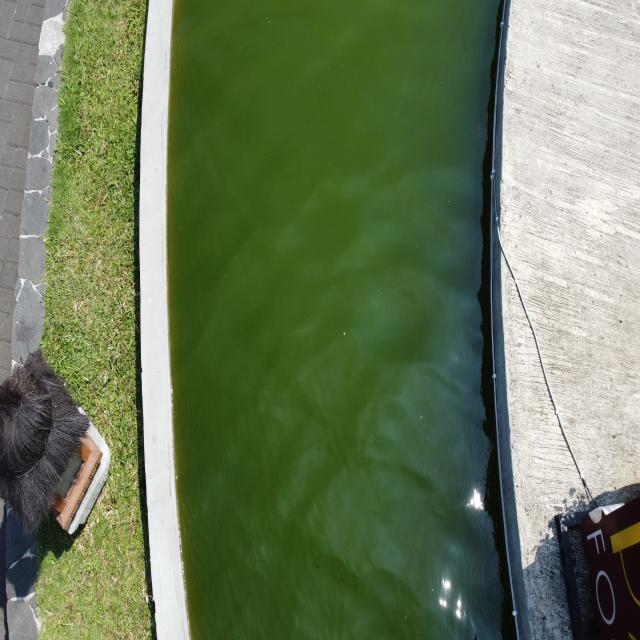Ponds: (141, 1, 569, 640)
